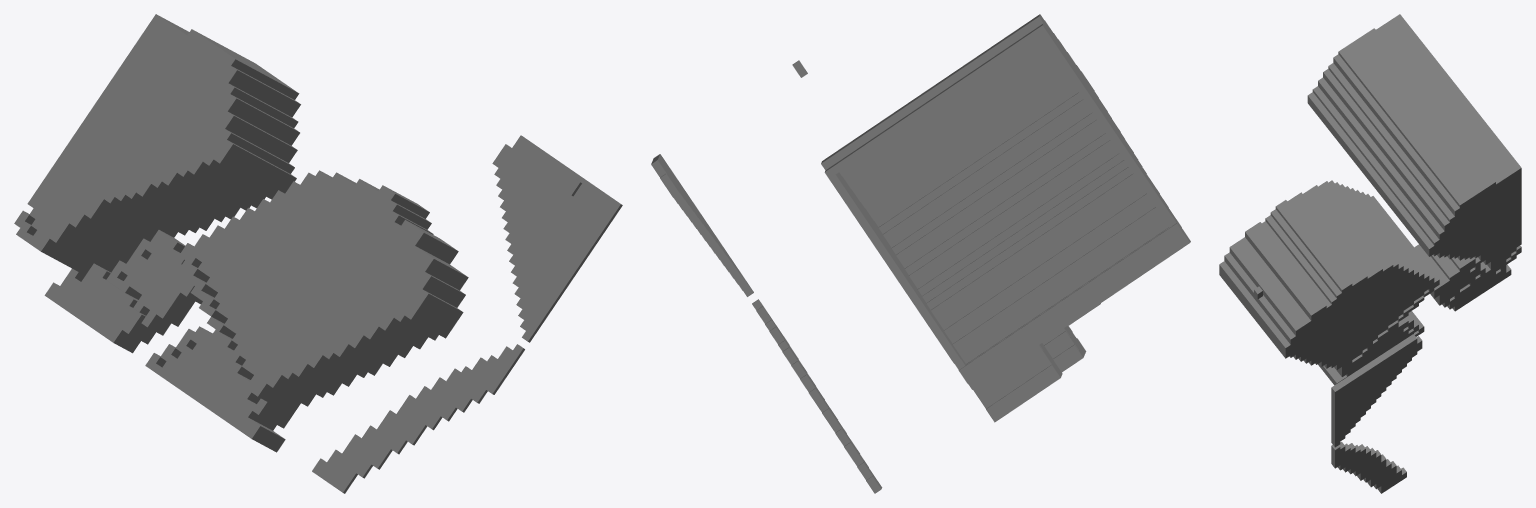
The model's file is tile_1_3.glb.
3 renders of one model, left to right at view 1: azimuth 30°, elevation 25°; view 2: azimuth 150°, elevation 25°; view 3: azimuth 270°, elevation 25°, orthographic. The views are drawn at different scales.
Parts seen in each view (by area): view 1: universal_minecraft:stained_terracotta:up, universal_minecraft:concrete:up, universal_minecraft:concrete:north, universal_minecraft:concrete:west; view 2: universal_minecraft:concrete:south, universal_minecraft:concrete:west, universal_minecraft:stained_terracotta:south, universal_minecraft:grass_block:south, universal_minecraft:concrete:up, universal_minecraft:stained_terracotta:up, universal_minecraft:grass_block:up; view 3: universal_minecraft:concrete:west, universal_minecraft:grass_block:down, universal_minecraft:concrete:down, universal_minecraft:concrete:north.
Boxes of the visible parts, x1,y1,x2,y2 form: universal_minecraft:stained_terracotta:up: (27,20,420,429); universal_minecraft:concrete:up: (14,14,620,492); universal_minecraft:concrete:north: (25,59,622,493); universal_minecraft:concrete:west: (25,14,621,462); universal_minecraft:concrete:south: (651,17,1189,493); universal_minecraft:concrete:west: (651,14,1176,480); universal_minecraft:stained_terracotta:south: (1040,32,1185,350); universal_minecraft:grass_block:south: (829,175,965,369); universal_minecraft:concrete:up: (658,14,1190,488); universal_minecraft:stained_terracotta:up: (1043,21,1185,356); universal_minecraft:grass_block:up: (835,172,965,365); universal_minecraft:concrete:west: (1219,14,1521,474); universal_minecraft:grass_block:down: (1290,170,1521,373); universal_minecraft:concrete:down: (1285,168,1521,493); universal_minecraft:concrete:north: (1219,52,1516,493).
Bounding box in the file's own units: 83.12 × 71.77 × 47.86.
Materials: 22 (22 with a texture image).
